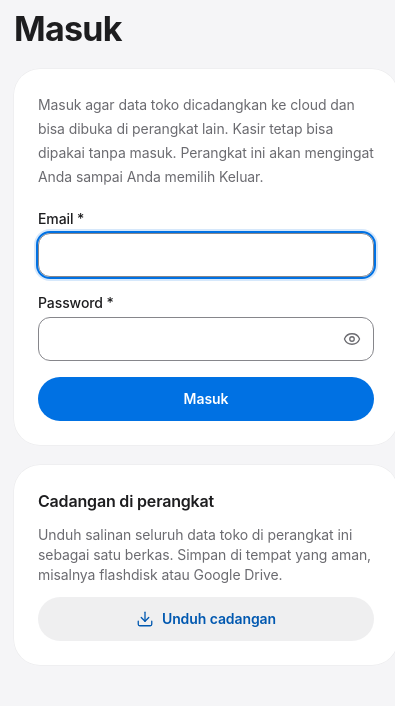
Masuk: signed out › does not ask for persistent storage when the sign-in failed
Step 1. Type "pemilik@toko.id" into the field labelled "Email" → x=206, y=255, box [38, 233, 374, 277]
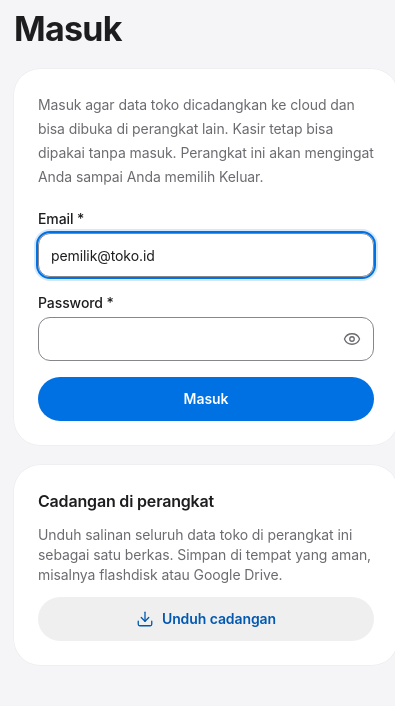
Step 2. Type "salah" into the password field labelled "Password" → x=206, y=339, box [38, 317, 374, 361]
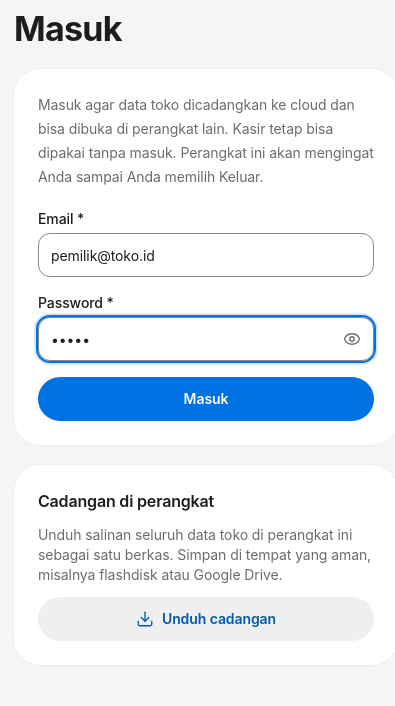
Step 3. Click the button "Masuk" → x=206, y=399, box [38, 377, 374, 421]
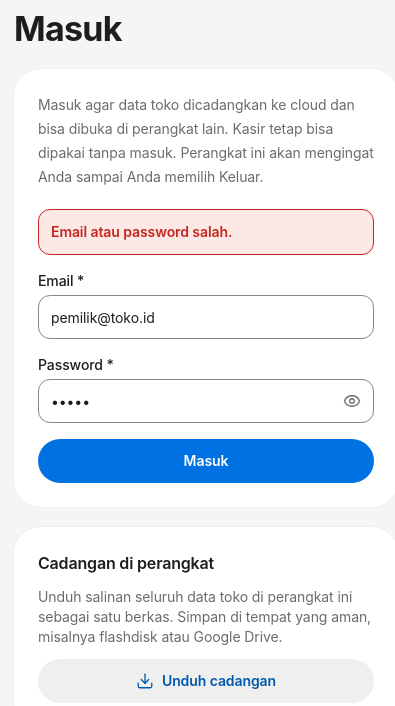
Expected: the message "Email atau password salah." is shown, [38, 209, 374, 255]
